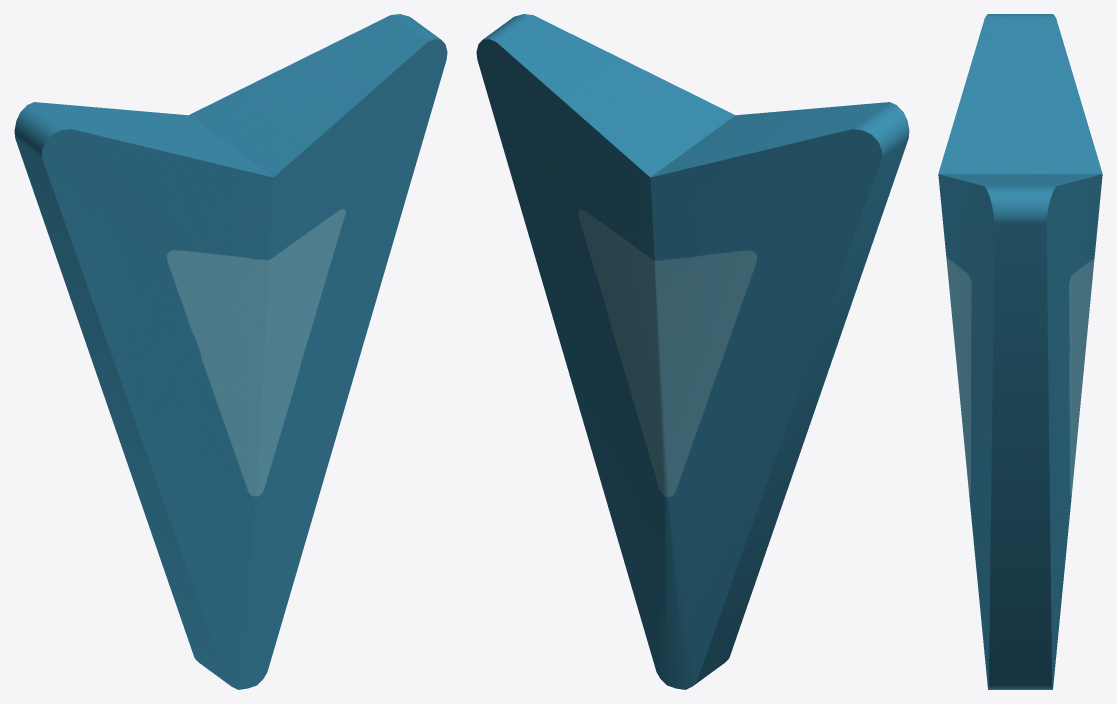
The model's file is Arrow2.DAE.
The picture shows the model from 3 angles, left to right: view 1: azimuth 30°, elevation 25°; view 2: azimuth 150°, elevation 25°; view 3: azimuth 270°, elevation 25°; orthographic projection. The views are drawn at different scales.
Visible parts, largest first — view 1: Arrow2-Pivot; view 2: Arrow2-Pivot; view 3: Arrow2-Pivot.
Boxes of the visible parts, bbox=[...] form: Arrow2-Pivot: bbox=[14, 14, 447, 689]; Arrow2-Pivot: bbox=[476, 14, 909, 689]; Arrow2-Pivot: bbox=[938, 14, 1102, 689].
Bounding box in the file's own units: 0.1618 × 0.2303 × 0.0588.
